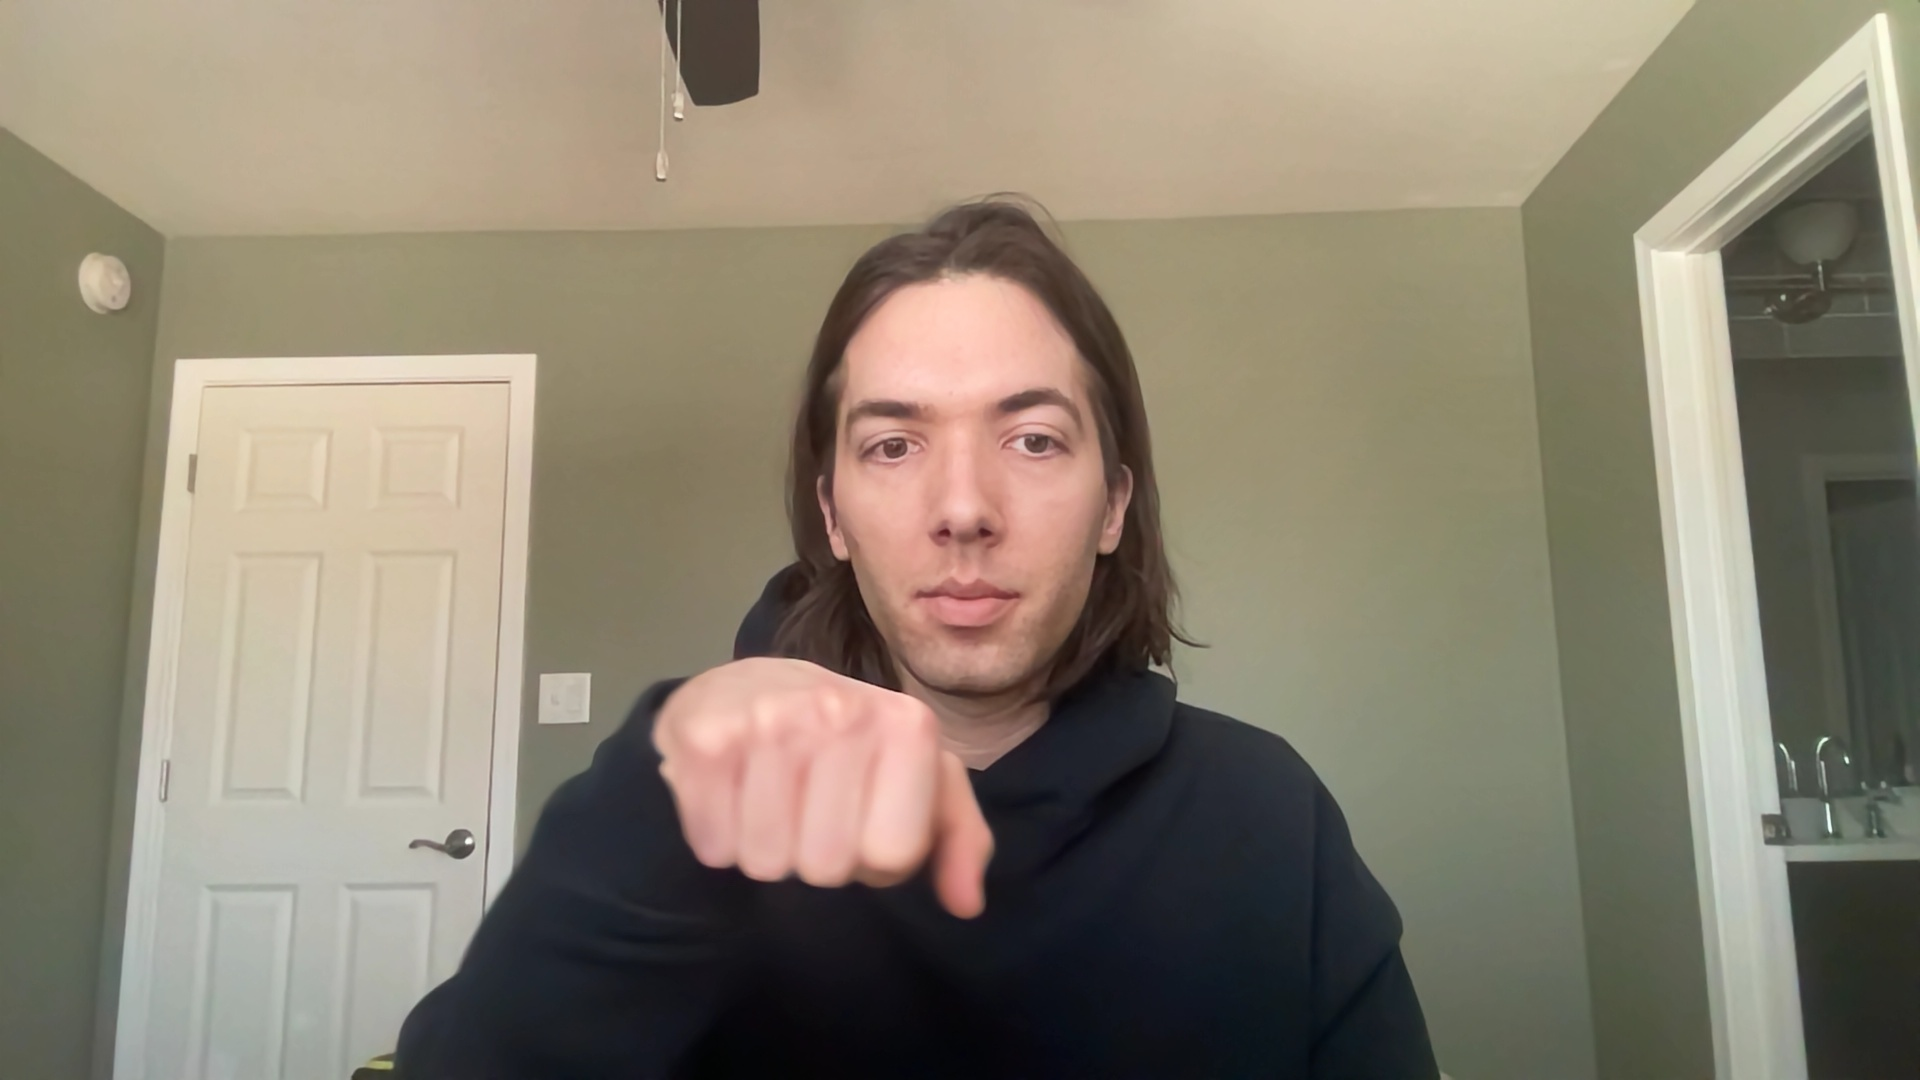Yes: (632, 638, 1027, 960)
